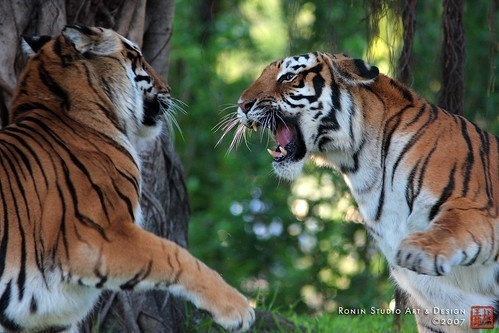tigre: (1, 26, 240, 330), (230, 51, 499, 301)
